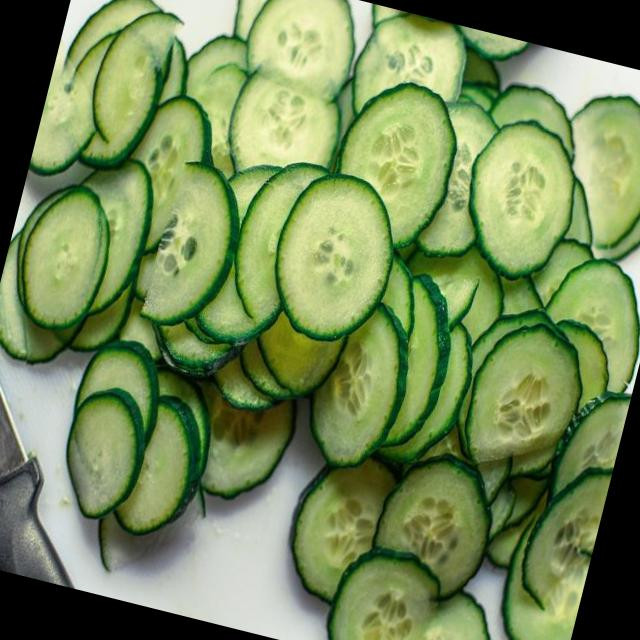Knife: (0, 389, 73, 588)
